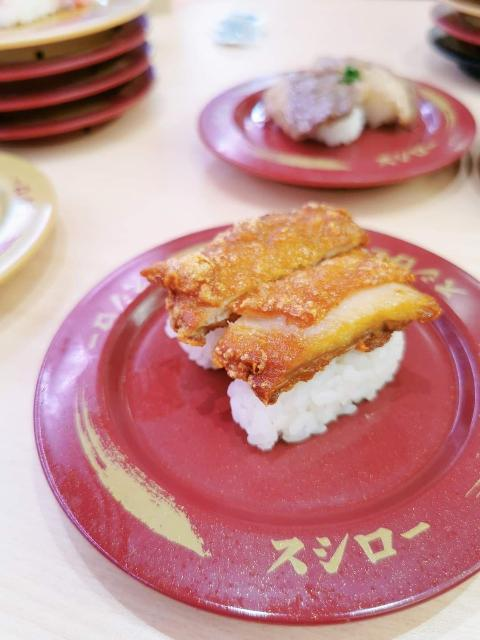janback: (428, 44, 480, 74)
jangold: (0, 150, 60, 274), (0, 4, 144, 52), (449, 0, 480, 19)
janred: (25, 246, 480, 586), (169, 80, 475, 187), (13, 113, 164, 146), (6, 87, 158, 106), (0, 66, 140, 81), (421, 11, 480, 42)
